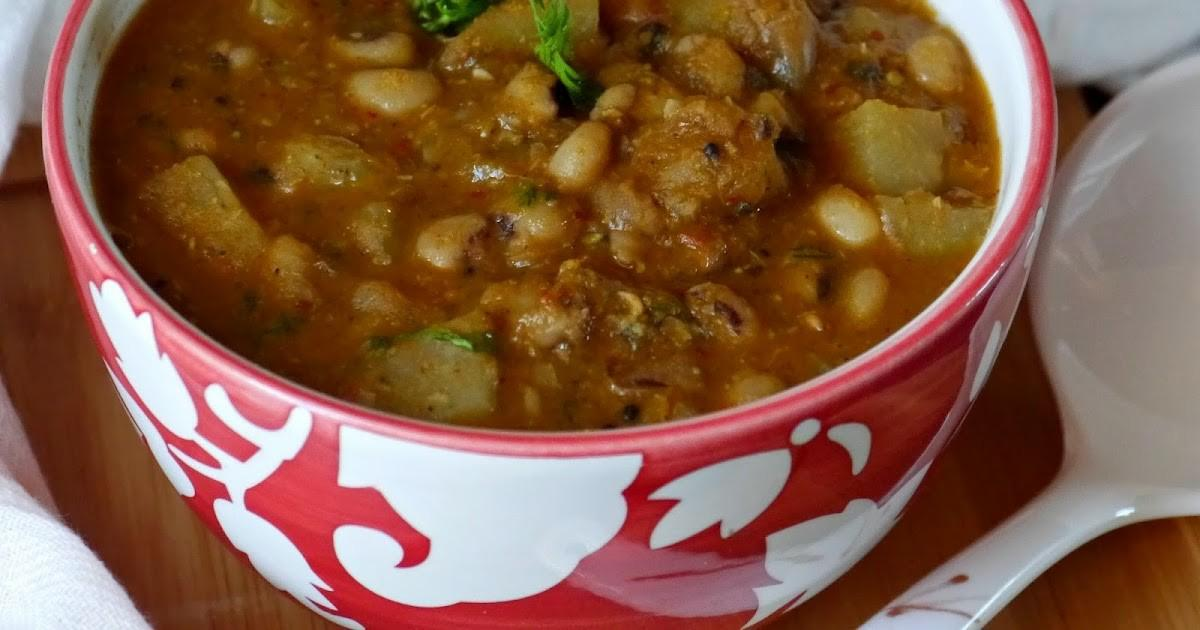RajmaCurry: (104, 0, 999, 428)
